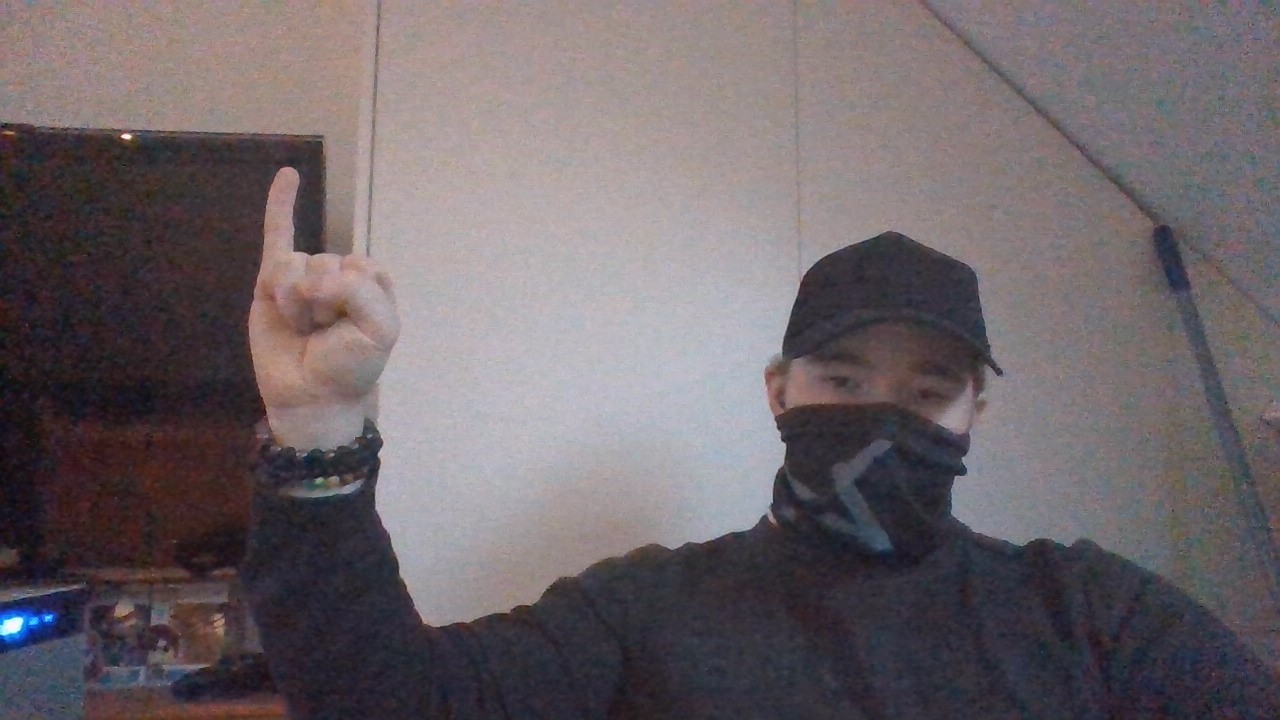I" Sign language: (241, 160, 410, 427)
